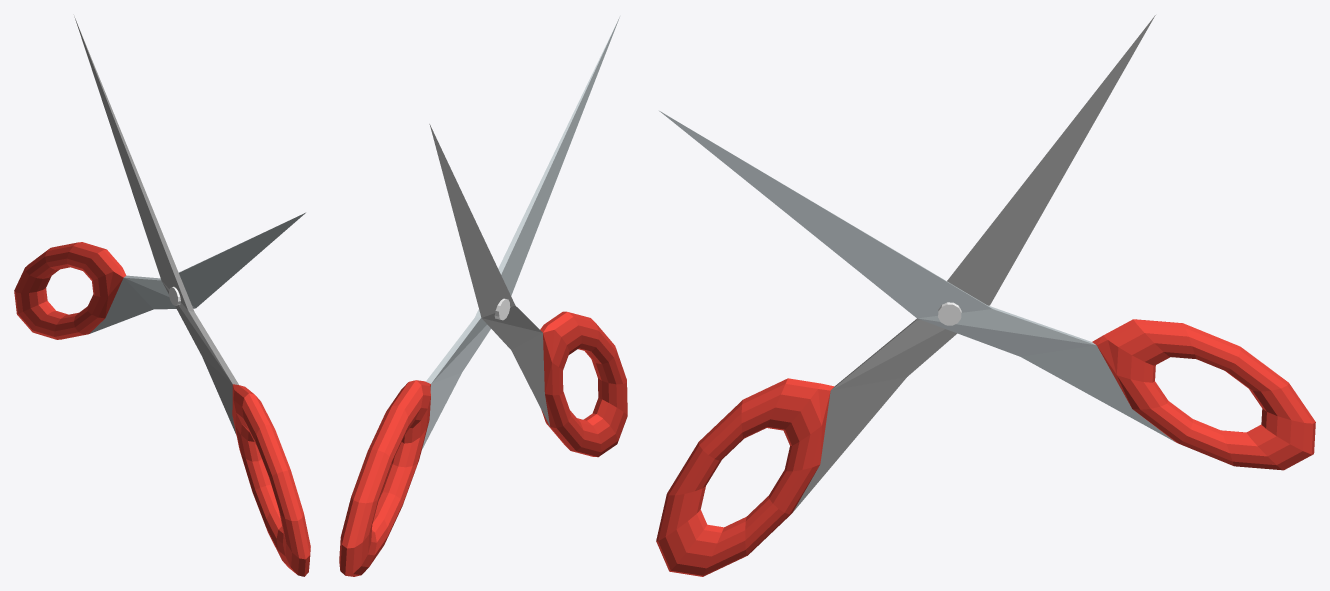
Rendered from Scissors.fbx.
3 views of the same model, side by side, from view 1: azimuth 30°, elevation 25°; view 2: azimuth 150°, elevation 25°; view 3: azimuth 270°, elevation 25° (orthographic). The views are drawn at different scales.
Parts seen in each view (by area): view 1: mesh_2140332494, mesh_105737810; view 2: mesh_105737810, mesh_2140332494; view 3: mesh_105737810, mesh_2140332494.
Boxes of the visible parts, box(x1,y1,x2,y2) form: mesh_2140332494: box(74, 16, 310, 576); mesh_105737810: box(14, 212, 305, 339); mesh_105737810: box(339, 17, 619, 576); mesh_2140332494: box(429, 124, 627, 457); mesh_105737810: box(659, 111, 1315, 470); mesh_2140332494: box(656, 15, 1155, 576).
Bounding box in the file's own units: 41.89 × 347 × 385.
